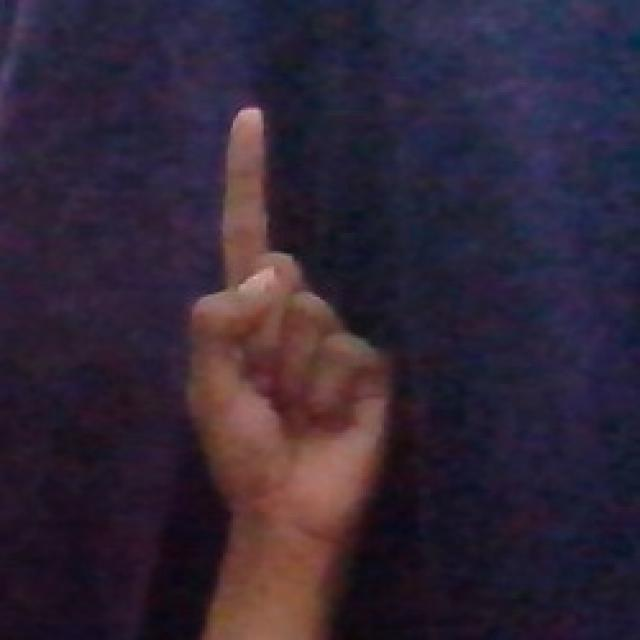Numeric-1: (196, 108, 387, 550)
